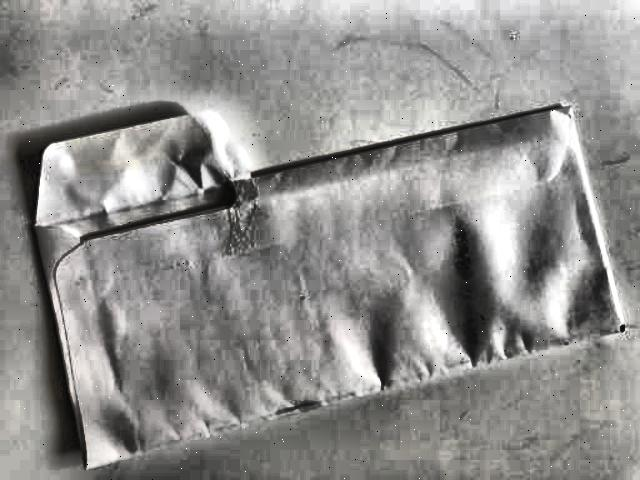Paper: (19, 92, 632, 480)
